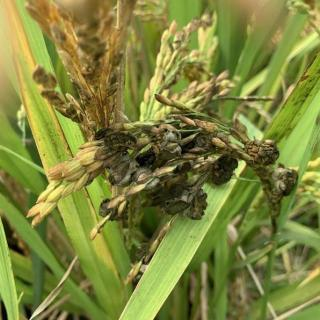Gosong-Palsu: (96, 128, 239, 221), (244, 136, 280, 166), (269, 166, 299, 196)
